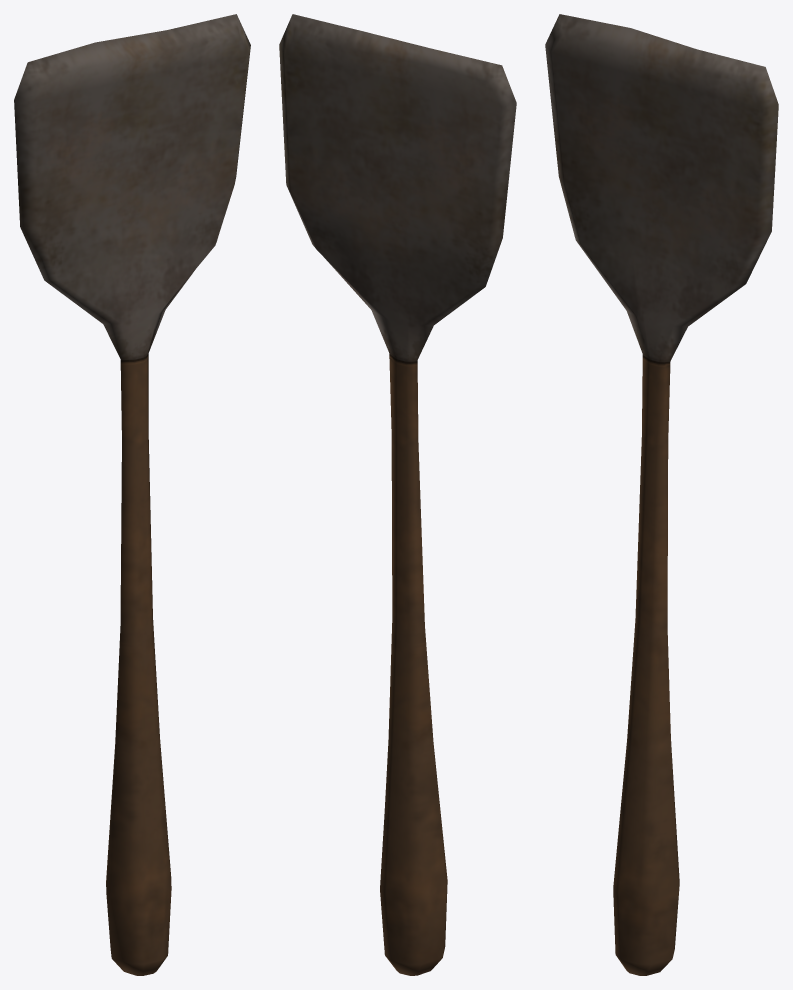
File: Spatula.fbx
3 views of the same model, side by side, from view 1: azimuth 30°, elevation 25°; view 2: azimuth 150°, elevation 25°; view 3: azimuth 330°, elevation 25° (orthographic).
Parts seen in each view (by area): view 1: Spatula_type4; view 2: Spatula_type4; view 3: Spatula_type4.
Part boxes in pixels (box(x1,y1,x2,y2)): Spatula_type4: box(14, 14, 250, 975); Spatula_type4: box(279, 14, 516, 975); Spatula_type4: box(545, 14, 778, 975).
Size of the model in its own units: 3.27 by 12.25 by 0.8957.
